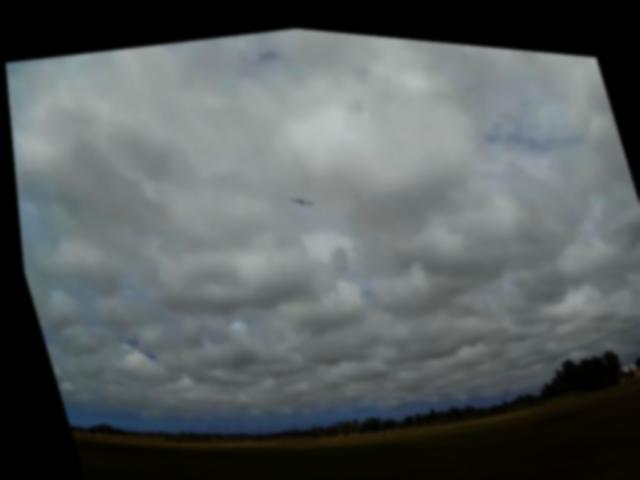uav: (278, 176, 319, 213)
